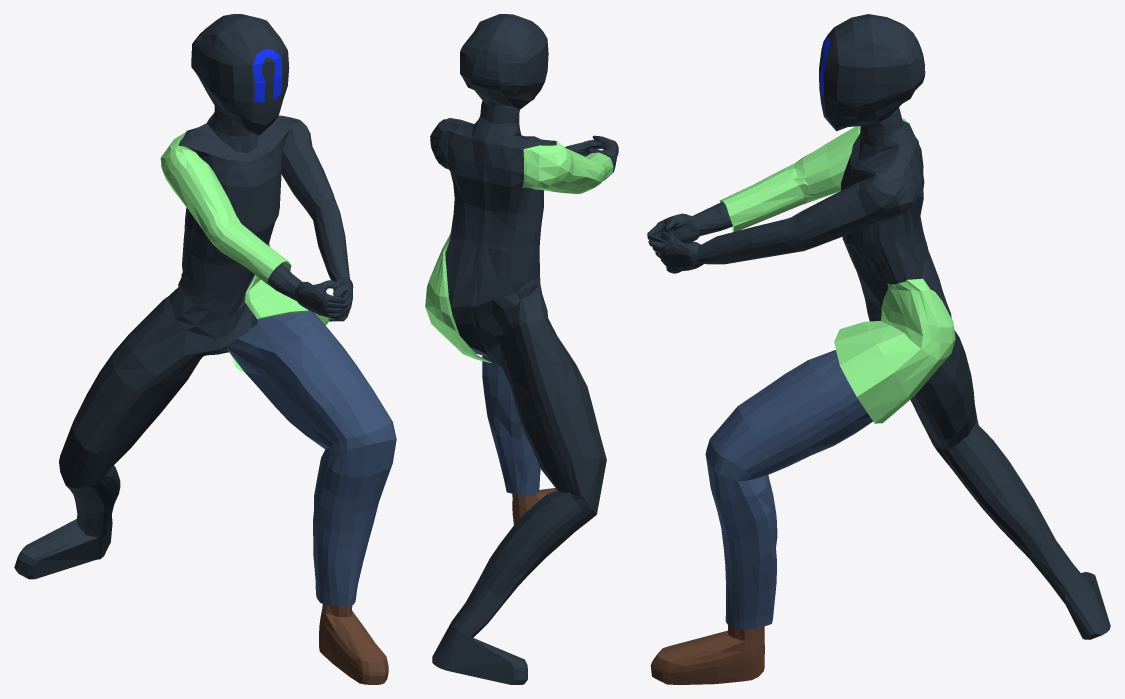
File: Mar_Attack_000028.obj
The picture shows the model from 3 angles, left to right: view 1: azimuth 30°, elevation 25°; view 2: azimuth 150°, elevation 25°; view 3: azimuth 270°, elevation 25°; orthographic projection. The views are drawn at different scales.
Visible parts, largest first — view 1: Cube.000_Cube.001; view 2: Cube.000_Cube.001; view 3: Cube.000_Cube.001.
Part boxes in pixels (x1,y1,x2,y2): Cube.000_Cube.001: (14,14,396,684); Cube.000_Cube.001: (425,14,618,684); Cube.000_Cube.001: (647,14,1110,684).
Bounding box in the file's own units: 1.3 × 3.4 × 2.22.
